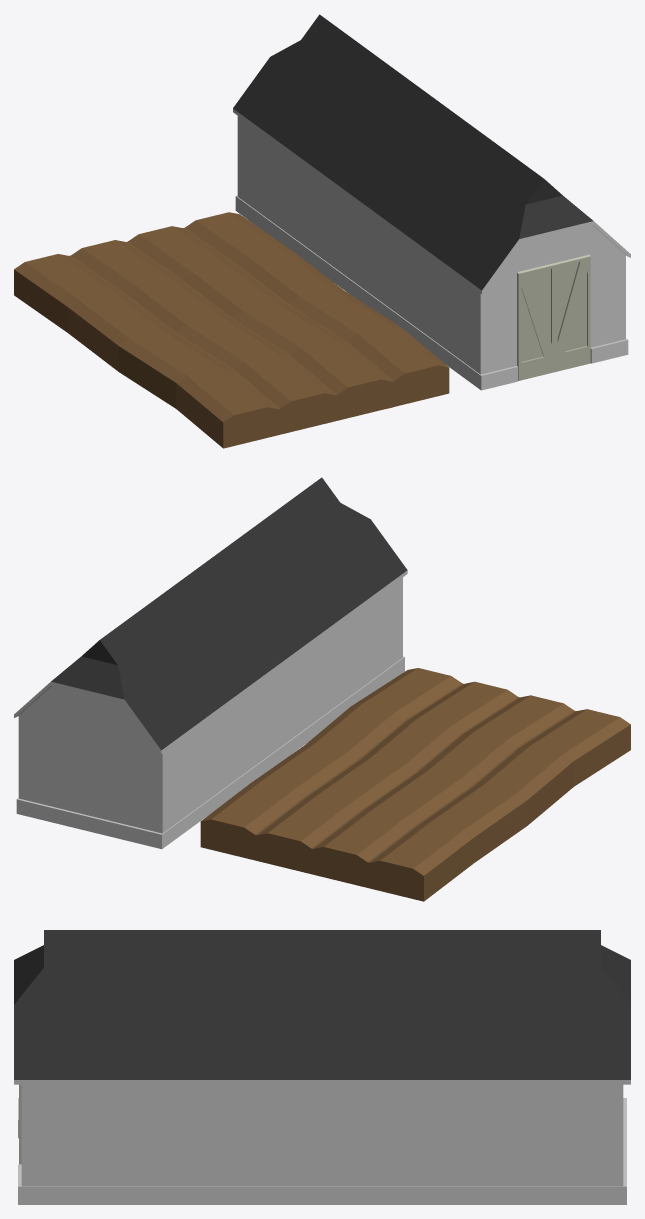
File: Concept Model Farm 02.fbx
The picture shows the model from 3 angles, top to bottom: view 1: azimuth 30°, elevation 25°; view 2: azimuth 150°, elevation 25°; view 3: azimuth 270°, elevation 25°; orthographic projection. The views are drawn at different scales.
Parts seen in each view (by area): view 1: Cube; view 2: Cube; view 3: Cube.
Part boxes in pixels (x1,y1,x2,y2): Cube: (14, 14, 630, 448); Cube: (14, 477, 630, 901); Cube: (14, 930, 630, 1204).
Bounding box in the file's own units: 1423 × 681 × 1569.
